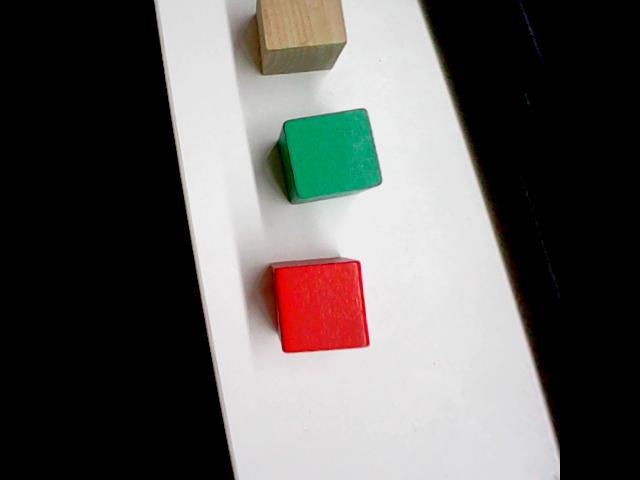green_box: (275, 105, 385, 206)
raw_box: (241, 0, 355, 78)
red_box: (267, 254, 374, 357)
